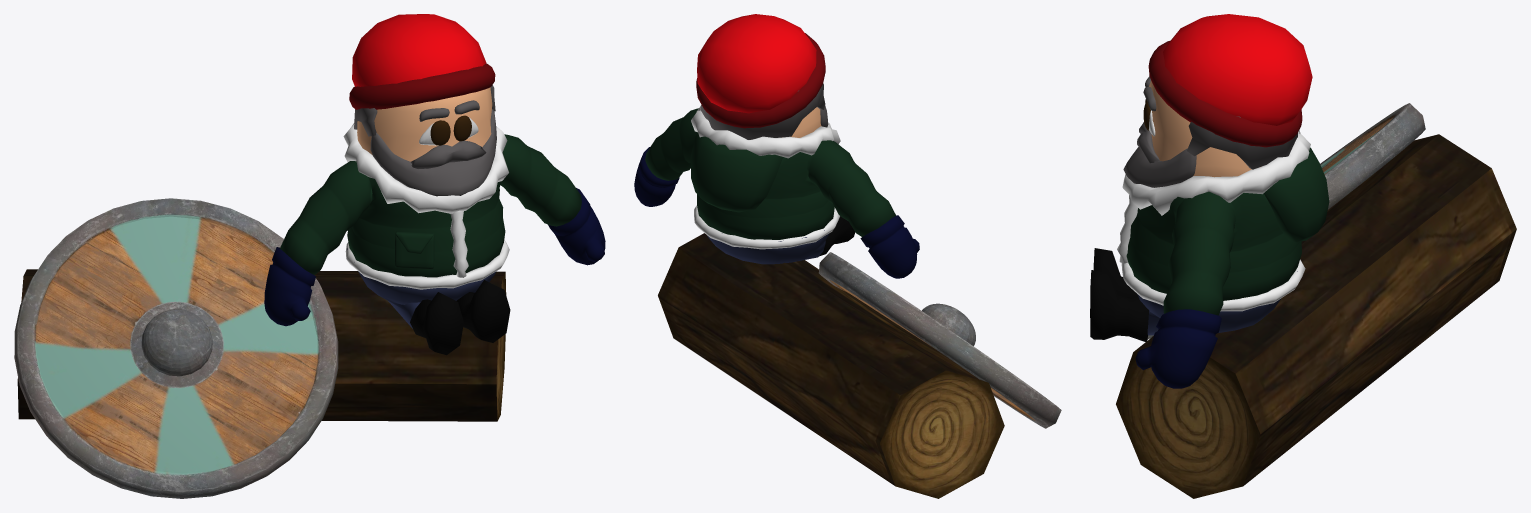
Rendered from shield.glb.
3 renders of one model, left to right at view 1: azimuth 30°, elevation 25°; view 2: azimuth 150°, elevation 25°; view 3: azimuth 270°, elevation 25°, orthographic. The views are drawn at different scales.
Visible parts, largest first — view 1: personaje, Escudo_Madera1, Escudo_Alrededor1, pCylinder1, Escudo_Medio1; view 2: pCylinder1, personaje, Escudo_Alrededor1, Escudo_Medio1; view 3: pCylinder1, personaje, Escudo_Alrededor1, Escudo_Madera1.
Boxes of the visible parts, x1,y1,x2,y2 form: personaje: [264, 14, 605, 355]; Escudo_Madera1: [36, 216, 317, 473]; Escudo_Alrededor1: [14, 198, 338, 498]; pCylinder1: [17, 269, 506, 421]; Escudo_Medio1: [130, 302, 223, 387]; pCylinder1: [658, 233, 1004, 498]; personaje: [634, 14, 919, 278]; Escudo_Alrededor1: [818, 252, 1061, 428]; Escudo_Medio1: [922, 303, 975, 346]; pCylinder1: [1116, 134, 1516, 498]; personaje: [1090, 14, 1329, 388]; Escudo_Alrededor1: [1147, 103, 1425, 339]; Escudo_Madera1: [1321, 118, 1392, 174].
Bounding box in the file's own units: 4.9 × 3.6 × 3.15.
Materials: 12 (2 with a texture image).
